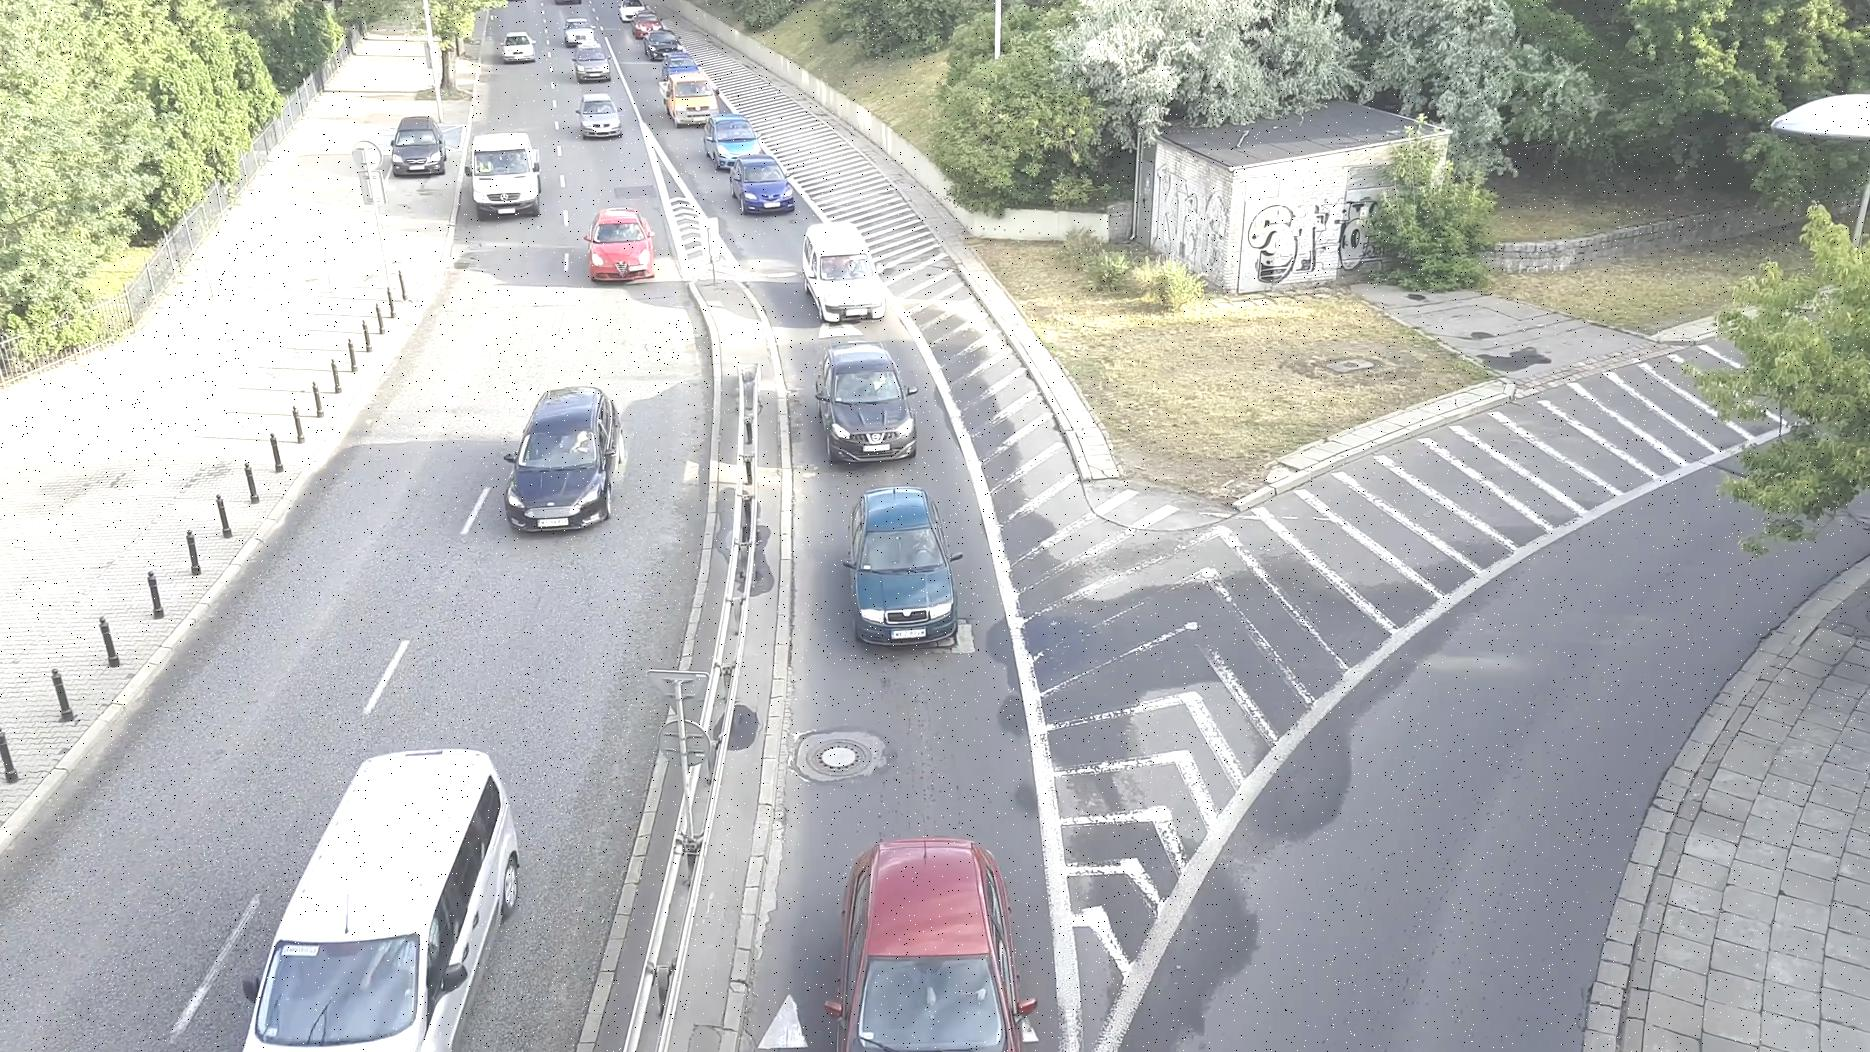car: (238, 722, 551, 1042), (828, 809, 1038, 1038), (493, 367, 637, 546), (845, 480, 968, 653), (809, 349, 930, 464), (790, 212, 900, 337), (578, 207, 661, 285), (728, 141, 796, 225), (652, 68, 721, 135), (385, 109, 447, 177), (696, 109, 769, 161), (573, 86, 623, 145), (568, 39, 616, 86), (643, 26, 687, 66), (497, 26, 539, 66), (560, 9, 597, 42)
truck: (468, 126, 551, 221)
